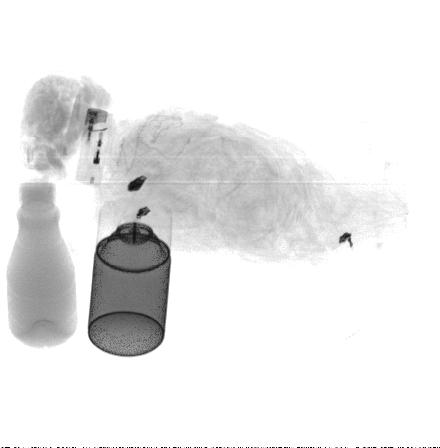Lighter: (75, 107, 117, 186)
Sprayer: (87, 197, 173, 358)
